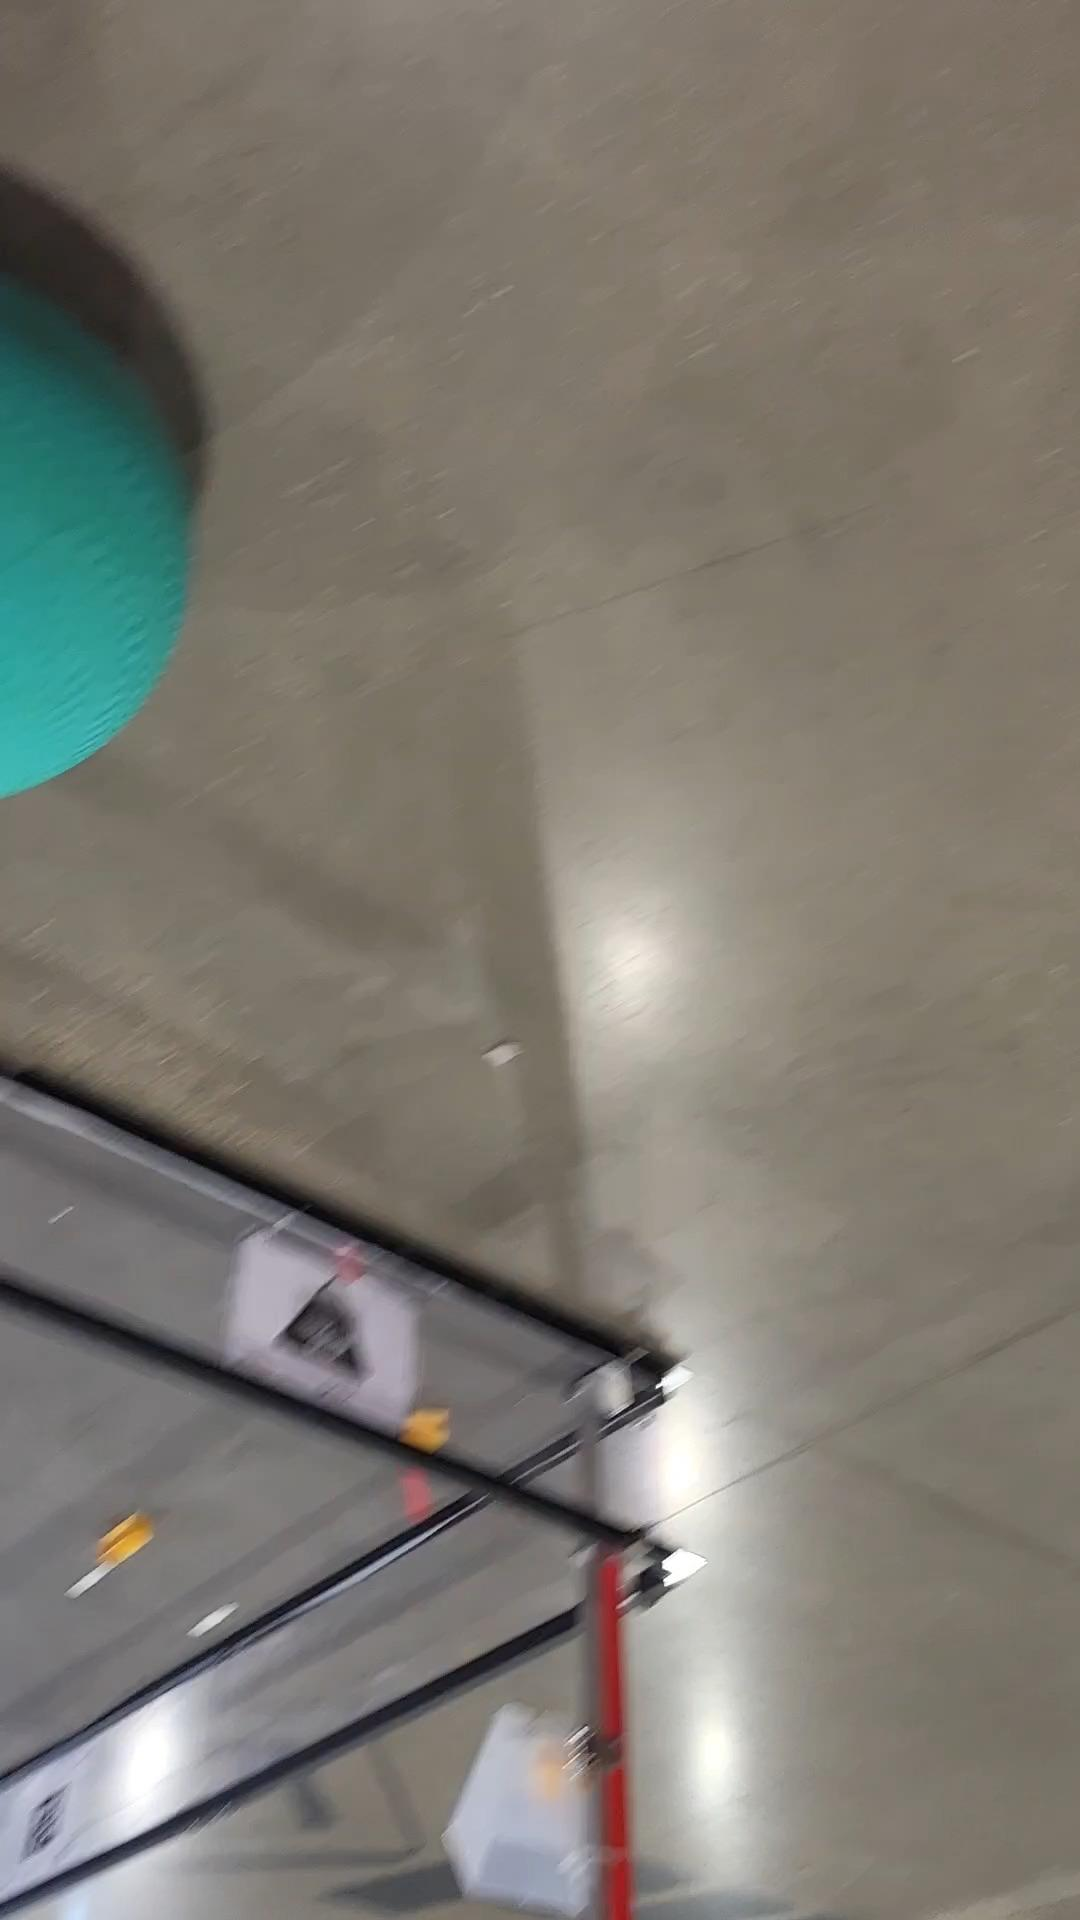algae: (0, 257, 193, 812)
